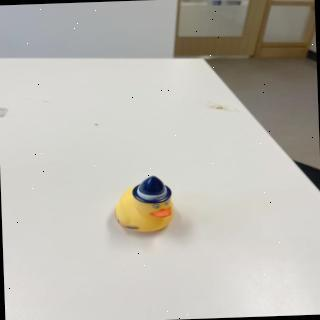duck_specialty: (113, 174, 179, 235)
